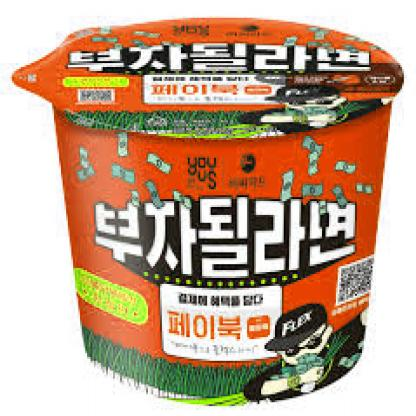Ramen: (36, 18, 406, 404)
